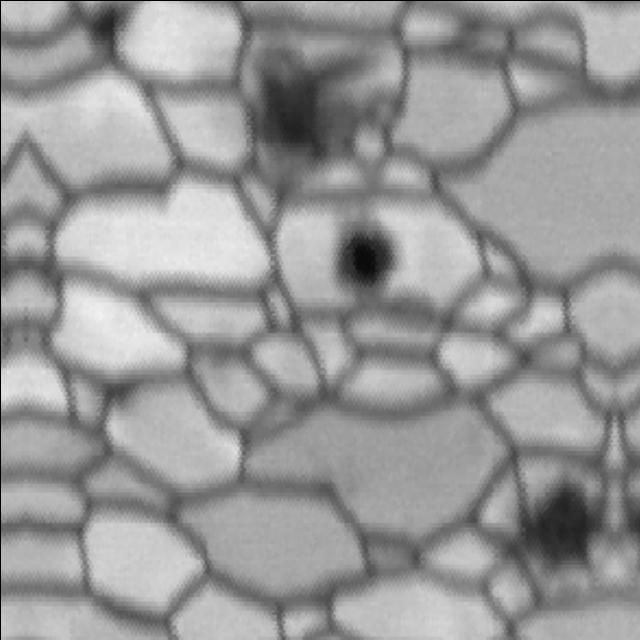good_void: (241, 17, 422, 188), (498, 469, 600, 578), (333, 216, 409, 296), (75, 0, 138, 64), (94, 366, 145, 417)
